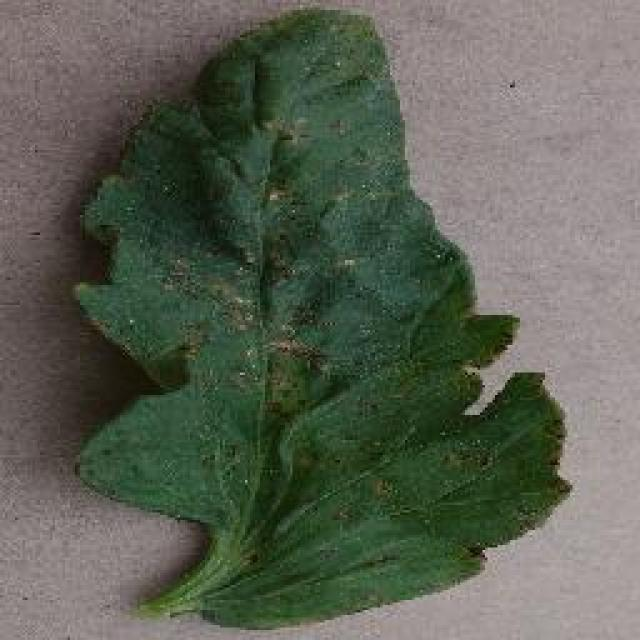bacterial spot: (72, 13, 575, 630)
